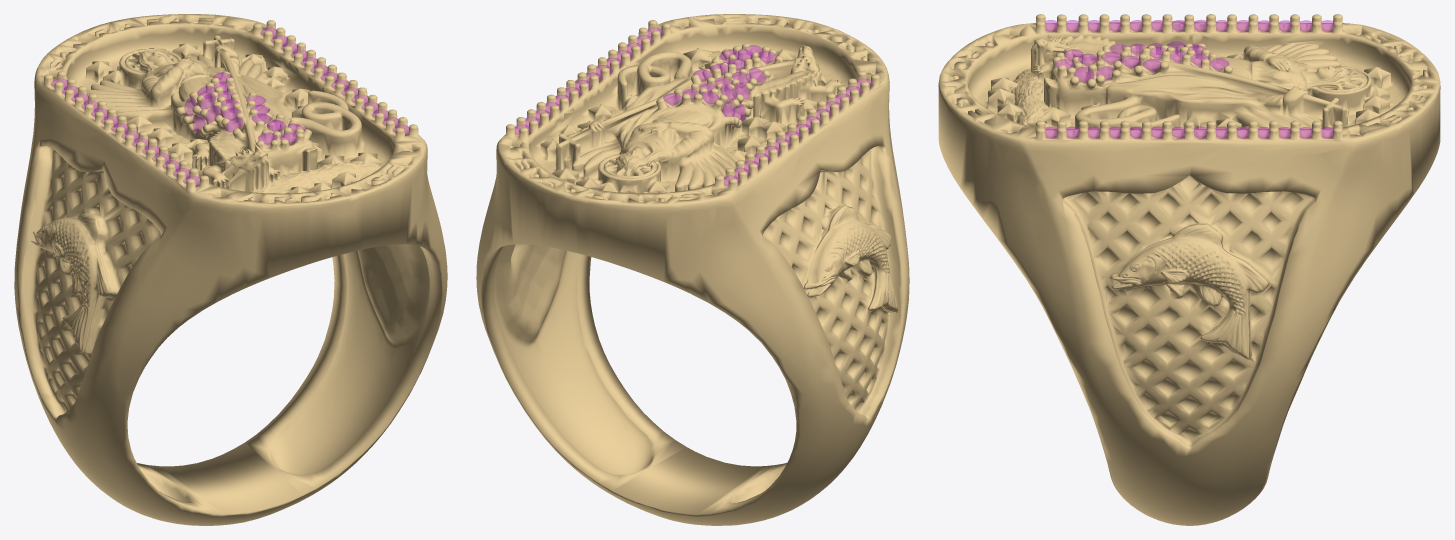
The model's file is Arcangel-ring.glb.
3 views of the same model, side by side, from view 1: azimuth 30°, elevation 25°; view 2: azimuth 150°, elevation 25°; view 3: azimuth 270°, elevation 25° (orthographic). The views are drawn at different scales.
Parts seen in each view (by area): view 1: san rafael arcangel Anillo; view 2: san rafael arcangel Anillo; view 3: san rafael arcangel Anillo.
Part boxes in pixels (x1=…): san rafael arcangel Anillo: x1=14, y1=14, x2=447, y2=525; san rafael arcangel Anillo: x1=476, y1=14, x2=909, y2=525; san rafael arcangel Anillo: x1=938, y1=14, x2=1440, y2=525.
Bounding box in the file's own units: 0.0102 × 0.0117 × 0.0119.
